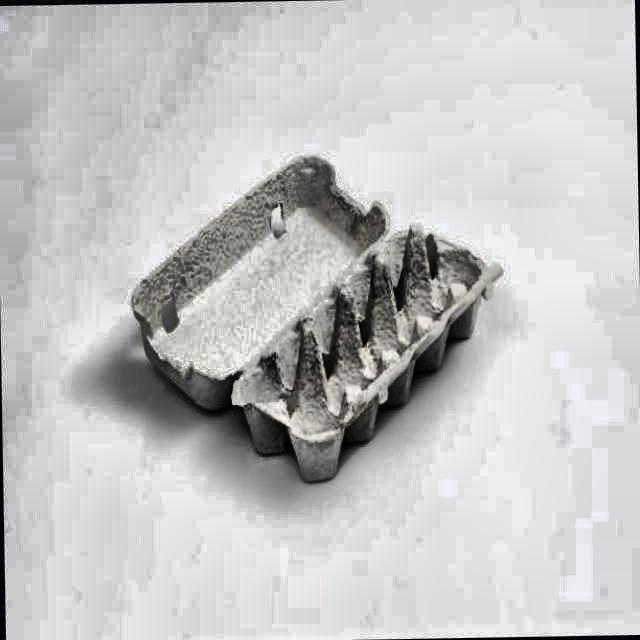cardboard: (132, 159, 503, 486)
